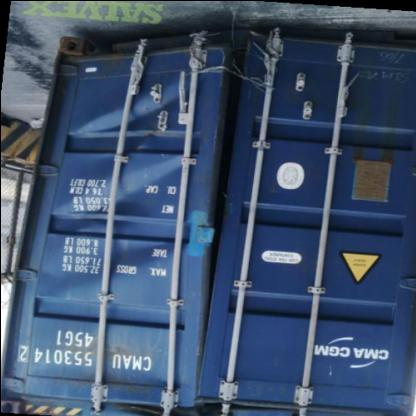Damage: (51, 47, 238, 298), (110, 376, 226, 416), (349, 128, 401, 166)
